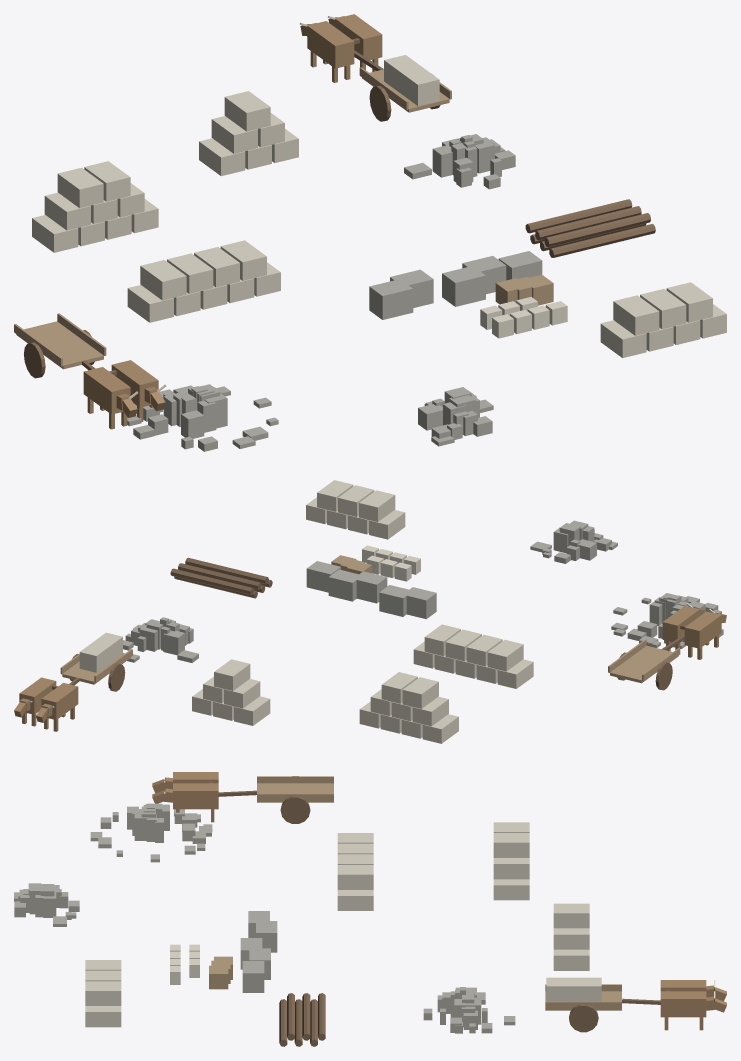
The model's file is quarry_yard.glb.
The picture shows the model from 3 angles, top to bottom: view 1: azimuth 30°, elevation 25°; view 2: azimuth 150°, elevation 25°; view 3: azimuth 270°, elevation 25°; orthographic projection. The views are drawn at different scales.
Visible parts, largest first — view 1: QuarryYard; view 2: QuarryYard; view 3: QuarryYard.
Boxes of the visible parts, x1,y1,x2,y2 form: QuarryYard: (14,14,726,451); QuarryYard: (14,480,726,743); QuarryYard: (14,772,726,1046).
Size of the model in its own units: 24.07 by 2.17 by 29.69.
